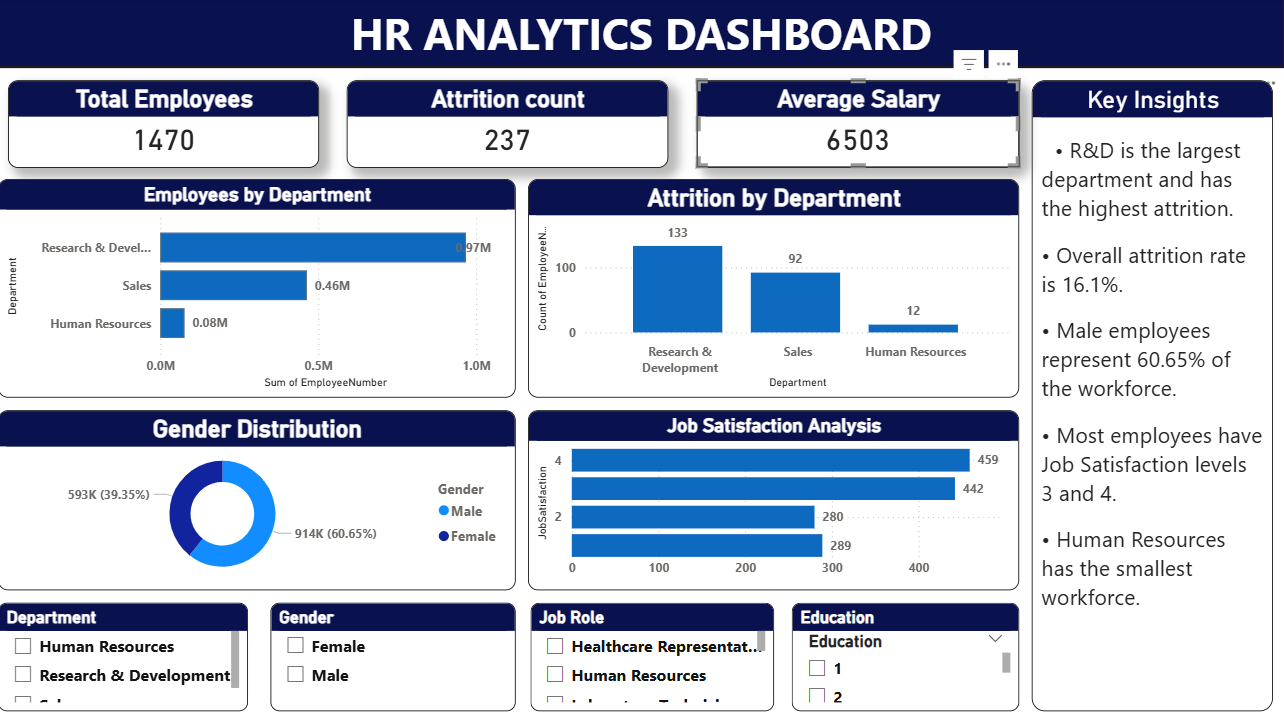

This screenshot's page, from the dashboard's own definition file:
{"tool":"powerbi","page":{"name":"Page 1","canvas":[1280,720],"ordinal":0},"visuals":[{"type":"card","title":"Total Employees","fields":{"Values":["Sum(hr_analytics hr_data.EmployeeCount)"]},"box":[10,80.9,309.7,87.1],"z":0},{"type":"textbox","box":[0,0,1280.3,68.6],"z":1},{"type":"card","title":"Attrition count","fields":{"Values":["CountNonNull(hr_analytics hr_data.Attrition)"]},"box":[347.1,80.9,319.7,87.1],"z":2},{"type":"card","title":"Average Salary","fields":{"Values":["Avg(hr_analytics hr_data.MonthlyIncome)"]},"box":[695.4,80.9,320.9,87.1],"z":3},{"type":"clusteredBarChart","title":"Employees by Department","fields":{"Category":["hr_analytics hr_data.Department"],"Y":["Sum(hr_analytics hr_data.EmployeeNumber)"]},"box":[0,179.1,515,217.7],"z":4},{"type":"clusteredColumnChart","title":"Attrition by Department","fields":{"Category":["hr_analytics hr_data.Department"],"Y":["CountNonNull(hr_analytics hr_data.EmployeeNumber)"]},"box":[527.4,179.1,488.9,217.7],"z":5},{"type":"donutChart","title":"Gender Distribution","fields":{"Category":["hr_analytics hr_data.Gender"],"Y":["Sum(hr_analytics hr_data.EmployeeNumber)"]},"box":[0,409.3,515,179.1],"z":6},{"type":"slicer","title":"Department","fields":{"Values":["hr_analytics hr_data.Department"]},"box":[0,600.8,248.8,108.2],"z":7},{"type":"slicer","title":"Gender","fields":{"Values":["hr_analytics hr_data.Gender"]},"box":[271.2,600.8,243.8,108.2],"z":8},{"type":"slicer","title":"Job Role","fields":{"Values":["hr_analytics hr_data.JobRole"]},"box":[529.9,600.8,242.6,108.2],"z":9},{"type":"slicer","title":"Education","fields":{"Values":["hr_analytics hr_data.Education"]},"box":[789.9,600.8,226.4,108.2],"z":10},{"type":"clusteredBarChart","title":"Job Satisfaction Analysis","fields":{"Category":["hr_analytics hr_data.JobSatisfaction"],"Y":["CountNonNull(hr_analytics hr_data.EmployeeNumber)"]},"box":[527.4,409.3,488.9,179.1],"z":11},{"type":"textbox","title":"Key Insights","box":[1028.8,80.9,240.1,628.2],"z":12}]}

Visuals, with their boxes in screenshot pixels (x1, y1, x2, y2), scaled from the page's 1280x720 canvas onto the 1284x721 screenshot:
"Total Employees" card: l=10, t=81, r=321, b=168
textbox: l=0, t=0, r=1283, b=69
"Attrition count" card: l=348, t=81, r=669, b=168
"Average Salary" card: l=698, t=81, r=1019, b=168
"Employees by Department" clusteredBarChart: l=0, t=179, r=517, b=397
"Attrition by Department" clusteredColumnChart: l=529, t=179, r=1019, b=397
"Gender Distribution" donutChart: l=0, t=410, r=517, b=589
"Department" slicer: l=0, t=602, r=250, b=710
"Gender" slicer: l=272, t=602, r=517, b=710
"Job Role" slicer: l=532, t=602, r=775, b=710
"Education" slicer: l=792, t=602, r=1019, b=710
"Job Satisfaction Analysis" clusteredBarChart: l=529, t=410, r=1019, b=589
"Key Insights" textbox: l=1032, t=81, r=1273, b=710
